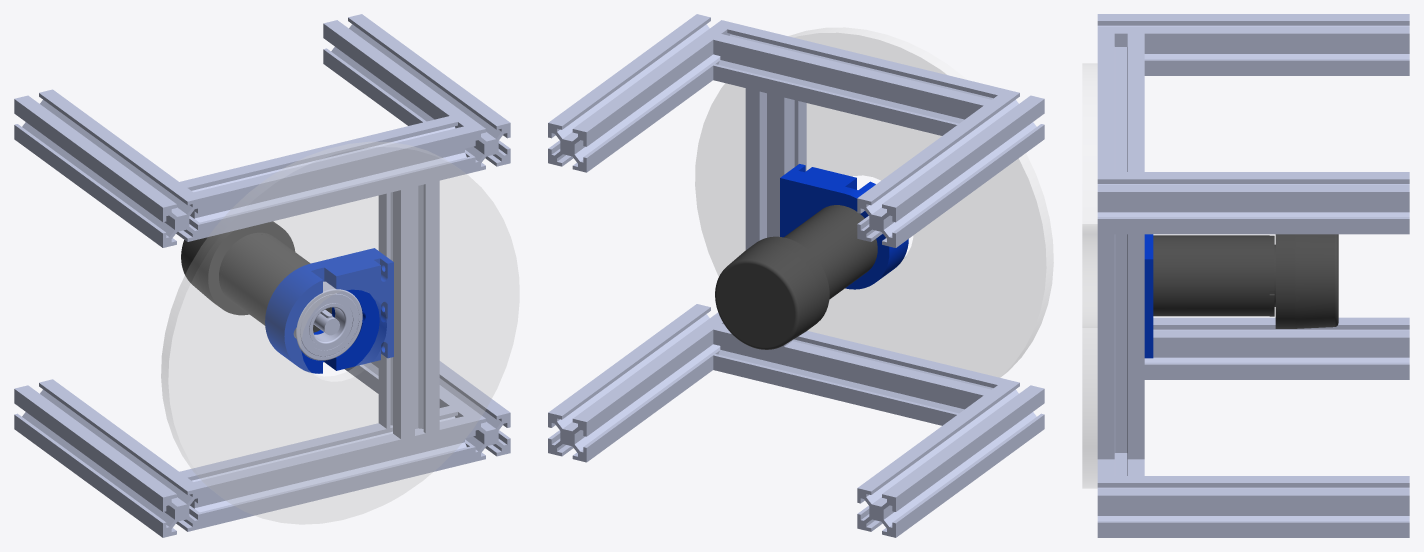
Rendered from FOOT2.glb.
The picture shows the model from 3 angles, left to right: view 1: azimuth 30°, elevation 25°; view 2: azimuth 150°, elevation 25°; view 3: azimuth 270°, elevation 25°; orthographic projection. The views are drawn at different scales.
Parts seen in each view (by area): view 1: PL1 - Plato inferior-1, Perfil X 210 mm-1, Perfil X 210 mm-2, Perfil X 185 mm-3, Perfil X 200 mm-4, Perfil X 200 mm-2, Perfil X 200 mm-1, BM3-Base Motor Inferior-1, Reductor100-1, Perfil X 200 mm-3, Motor100-1, skf_bearing_6205-2rsh_2_03-1 (+2 smaller); view 2: PL1 - Plato inferior-1, Perfil X 210 mm-1, Perfil X 210 mm-2, Perfil X 200 mm-2, Perfil X 200 mm-4, Perfil X 200 mm-1, Perfil X 200 mm-3, Motor100-1, Perfil X 185 mm-3, BM3-Base Motor Inferior-1, Reductor100-1; view 3: Perfil X 200 mm-1, Perfil X 200 mm-3, Perfil X 200 mm-2, Perfil X 200 mm-4, Perfil X 185 mm-3, Reductor100-1, PL1 - Plato inferior-1, Perfil X 210 mm-1, Motor100-1, BM3-Base Motor Inferior-1, Perfil X 210 mm-2.
Boxes of the visible parts, x1,y1,x2,y2 form: PL1 - Plato inferior-1: [161, 142, 519, 524]; Perfil X 210 mm-1: [180, 116, 471, 238]; Perfil X 210 mm-2: [179, 406, 471, 528]; Perfil X 185 mm-3: [378, 180, 439, 439]; Perfil X 200 mm-4: [14, 379, 201, 537]; Perfil X 200 mm-2: [14, 89, 201, 247]; Perfil X 200 mm-1: [323, 14, 510, 172]; BM3-Base Motor Inferior-1: [265, 248, 393, 373]; Reductor100-1: [219, 232, 339, 335]; Perfil X 200 mm-3: [344, 360, 510, 462]; Motor100-1: [181, 221, 295, 315]; skf_bearing_6205-2rsh_2_03-1: [300, 293, 359, 356]; PL1 - Plato inferior-1: [695, 27, 1053, 377]; Perfil X 210 mm-1: [713, 23, 1005, 135]; Perfil X 210 mm-2: [713, 323, 1005, 425]; Perfil X 200 mm-2: [857, 89, 1044, 247]; Perfil X 200 mm-4: [857, 379, 1044, 537]; Perfil X 200 mm-1: [548, 14, 734, 172]; Perfil X 200 mm-3: [548, 304, 723, 462]; Motor100-1: [715, 236, 829, 349]; Perfil X 185 mm-3: [745, 88, 806, 346]; BM3-Base Motor Inferior-1: [780, 164, 908, 289]; Reductor100-1: [784, 205, 877, 299]; Perfil X 200 mm-1: [1097, 172, 1409, 234]; Perfil X 200 mm-3: [1097, 476, 1409, 537]; Perfil X 200 mm-2: [1097, 14, 1409, 75]; Perfil X 200 mm-4: [1144, 317, 1409, 379]; Perfil X 185 mm-3: [1097, 234, 1144, 459]; Reductor100-1: [1153, 235, 1275, 316]; PL1 - Plato inferior-1: [1082, 63, 1097, 488]; Perfil X 210 mm-1: [1097, 33, 1144, 171]; Motor100-1: [1275, 234, 1338, 328]; BM3-Base Motor Inferior-1: [1144, 234, 1153, 358]; Perfil X 210 mm-2: [1097, 453, 1144, 475].
Bounding box in the file's own units: 0.2729 × 0.2728 × 0.2098.
